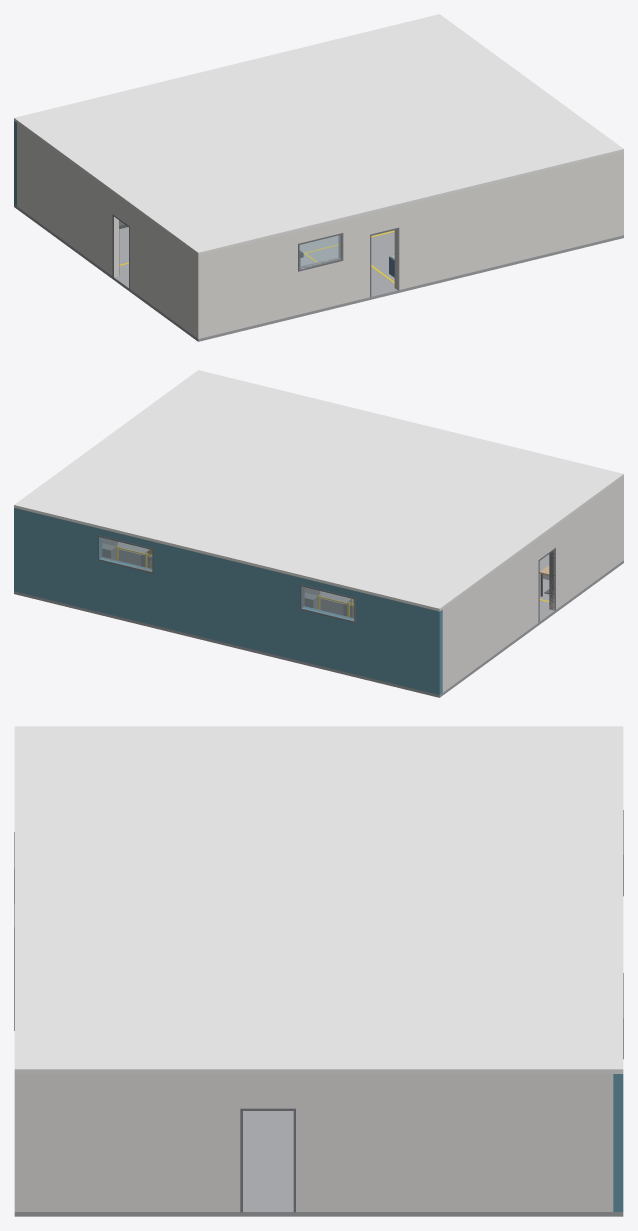
3 renders of one model, top to bottom at view 1: azimuth 30°, elevation 25°; view 2: azimuth 150°, elevation 25°; view 3: azimuth 270°, elevation 25°, orthographic. The views are drawn at different scales.
Parts seen in each view (by area): view 1: Ceiling, Wall_S, Wall_W, Floor, Frames_S; view 2: Ceiling, Wall_N, Wall_W, Frames_N, Floor, M02_vmc, M04_vmc, Frames_W, Fence_01_N, Fence_02_N; view 3: Ceiling, Wall_E, Floor, Wall_N, Wall_S, Frames_E.
Boxes of the visible parts, bbox=[...] form: Ceiling: bbox=[14, 14, 623, 255]; Wall_S: bbox=[195, 152, 623, 338]; Wall_W: bbox=[17, 123, 195, 336]; Floor: bbox=[14, 204, 623, 341]; Frames_S: bbox=[298, 227, 399, 297]; Ceiling: bbox=[14, 370, 623, 611]; Wall_N: bbox=[14, 508, 442, 694]; Wall_W: bbox=[442, 479, 620, 692]; Frames_N: bbox=[97, 535, 355, 623]; Floor: bbox=[14, 554, 623, 697]; M02_vmc: bbox=[304, 587, 350, 616]; M04_vmc: bbox=[102, 538, 148, 566]; Frames_W: bbox=[538, 547, 555, 622]; Fence_01_N: bbox=[318, 595, 354, 617]; Fence_02_N: bbox=[116, 545, 151, 568]; Ceiling: bbox=[14, 726, 623, 1073]; Wall_E: bbox=[24, 1074, 613, 1211]; Floor: bbox=[14, 1111, 623, 1216]; Wall_N: bbox=[613, 1074, 623, 1211]; Wall_S: bbox=[14, 1074, 24, 1211]; Frames_E: bbox=[240, 1108, 295, 1212].
Bounding box in the file's own units: 16.02 × 3.2 × 12.02.
